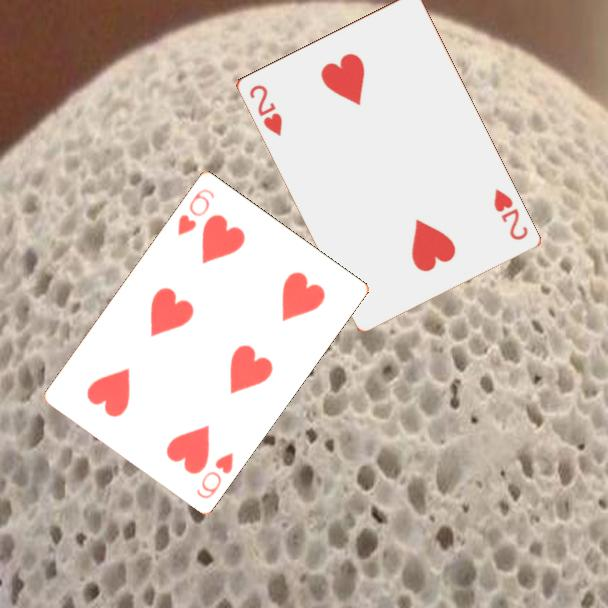h02: (490, 185, 531, 243), (245, 81, 285, 139)
h06: (174, 185, 218, 238), (193, 448, 236, 501)
